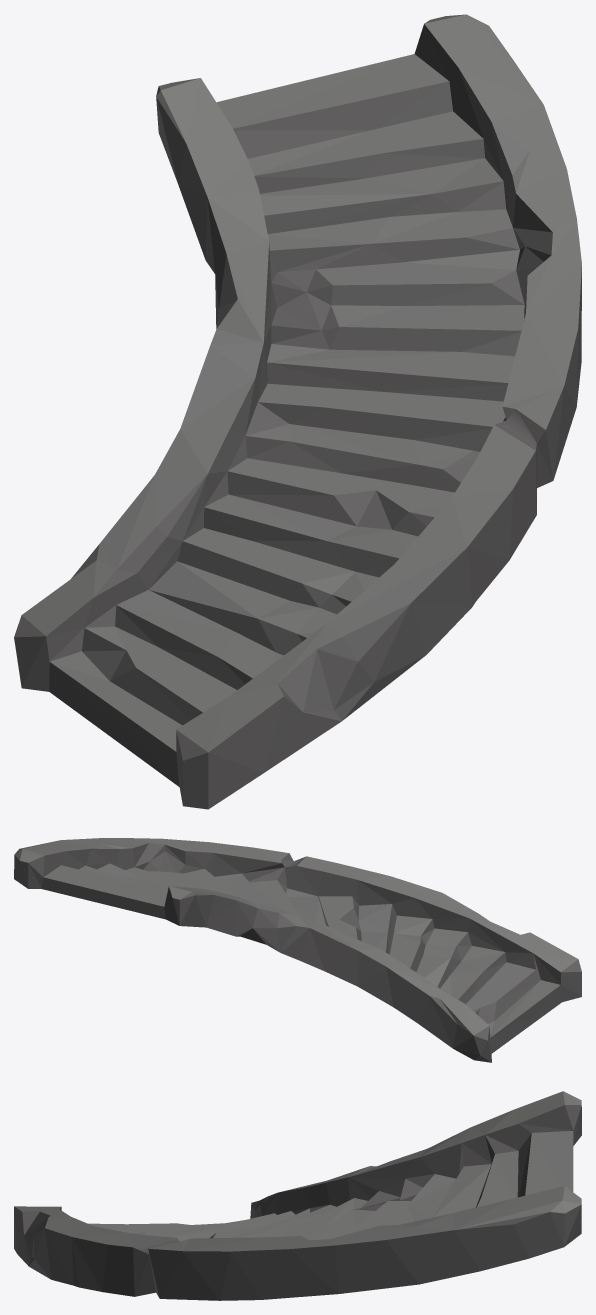
File: SM_Env_SpiralStairs_02.FBX
3 views of the same model, one above another, from view 1: azimuth 30°, elevation 25°; view 2: azimuth 150°, elevation 25°; view 3: azimuth 270°, elevation 25° (orthographic). The views are drawn at different scales.
Parts seen in each view (by area): view 1: SM_Env_SpiralStairs_02; view 2: SM_Env_SpiralStairs_02; view 3: SM_Env_SpiralStairs_02.
Boxes of the visible parts, bbox=[...] form: SM_Env_SpiralStairs_02: bbox=[14, 14, 581, 809]; SM_Env_SpiralStairs_02: bbox=[14, 838, 581, 1062]; SM_Env_SpiralStairs_02: bbox=[14, 1091, 581, 1300].
Size of what is drawn, in the model's own units: 512 by 516 by 276.
